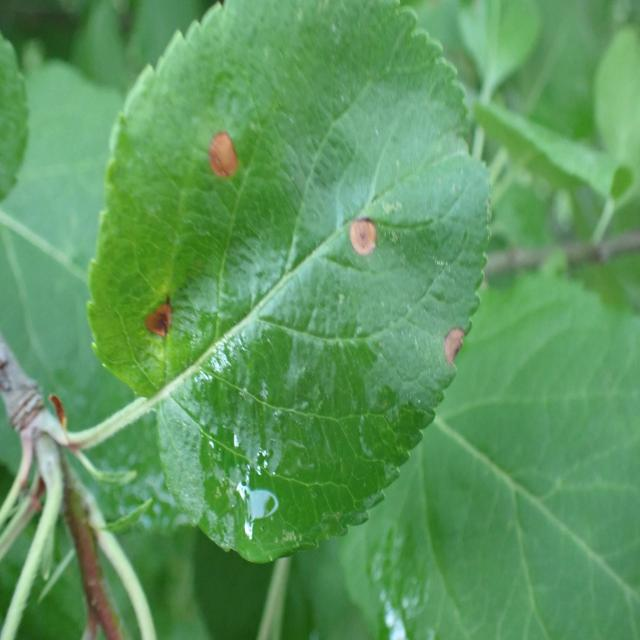Black Rot: (422, 320, 482, 394), (331, 199, 385, 281), (126, 276, 194, 336), (203, 114, 243, 207)
